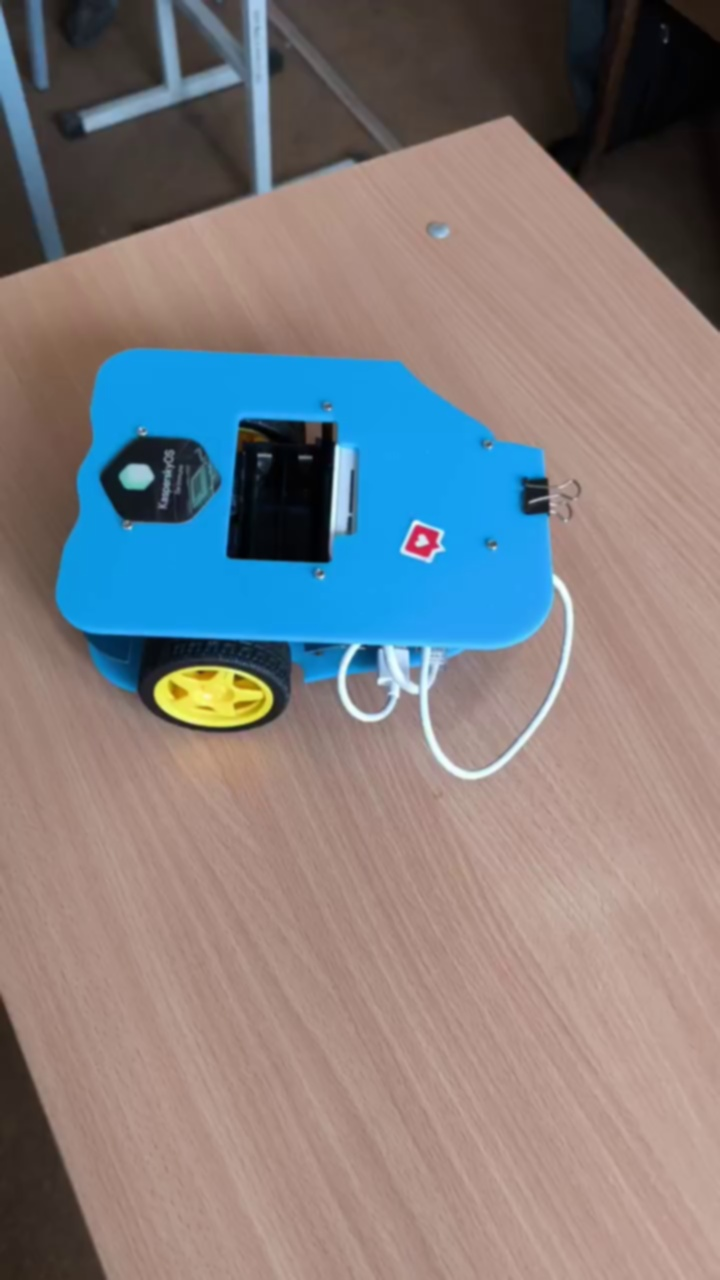robot: (54, 348, 582, 784)
